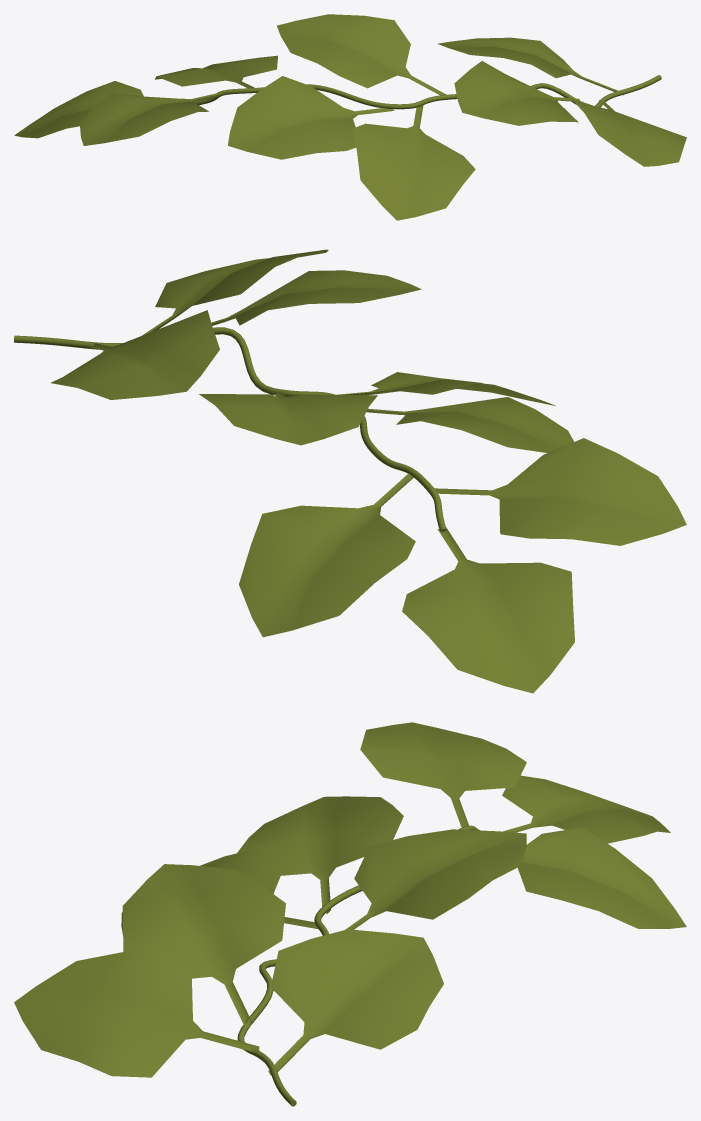
File: Ivy-short-1group.fbx
3 renders of one model, top to bottom at view 1: azimuth 30°, elevation 25°; view 2: azimuth 150°, elevation 25°; view 3: azimuth 270°, elevation 25°, orthographic. The views are drawn at different scales.
Parts seen in each view (by area): view 1: ivy-vineGroup.006; view 2: ivy-vineGroup.006; view 3: ivy-vineGroup.006.
Part boxes in pixels (<box>): ivy-vineGroup.006: <box>14,14,686,220</box>; ivy-vineGroup.006: <box>14,249,686,693</box>; ivy-vineGroup.006: <box>14,722,686,1106</box>.
Bounding box in the file's own units: 2.1 × 11.89 × 9.82.
